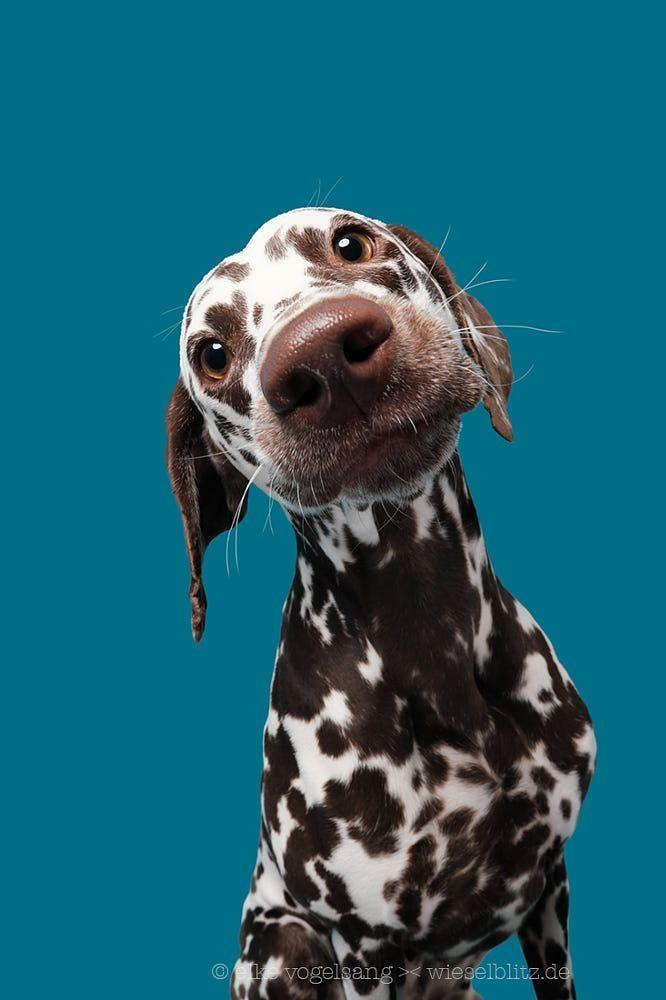adult_dog: (162, 203, 598, 1000)
